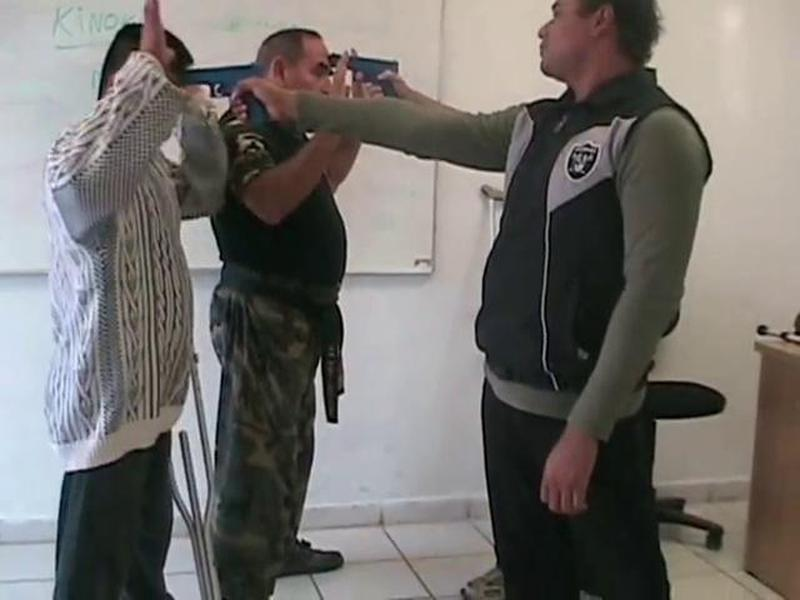Pistola: (170, 59, 289, 130)
